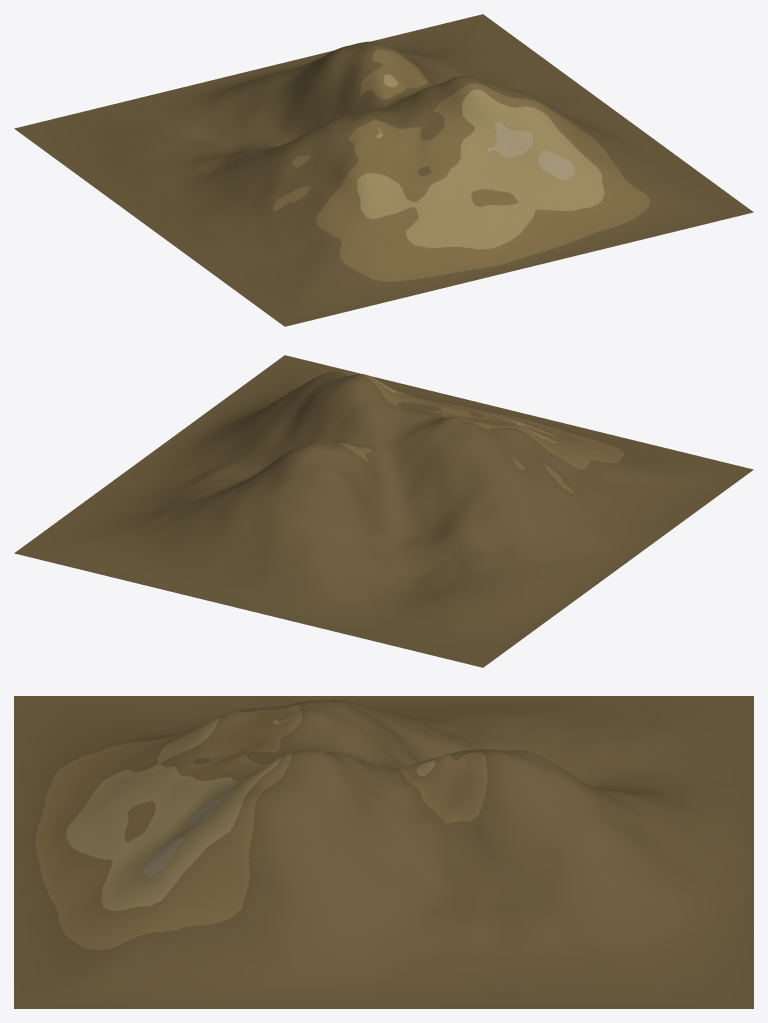
3 renders of one model, top to bottom at view 1: azimuth 30°, elevation 25°; view 2: azimuth 150°, elevation 25°; view 3: azimuth 270°, elevation 25°, orthographic. The views are drawn at different scales.
Visible parts, largest first — view 1: Landscape.1; view 2: Landscape.1; view 3: Landscape.1.
Boxes of the visible parts, left/top/right/bottom form: Landscape.1: left=14, top=14, right=753, bottom=326; Landscape.1: left=14, top=355, right=753, bottom=667; Landscape.1: left=14, top=696, right=753, bottom=1008.
Bounding box in the file's own units: 1000 × 202 × 1000.
Materials: 1 (1 with a texture image).
